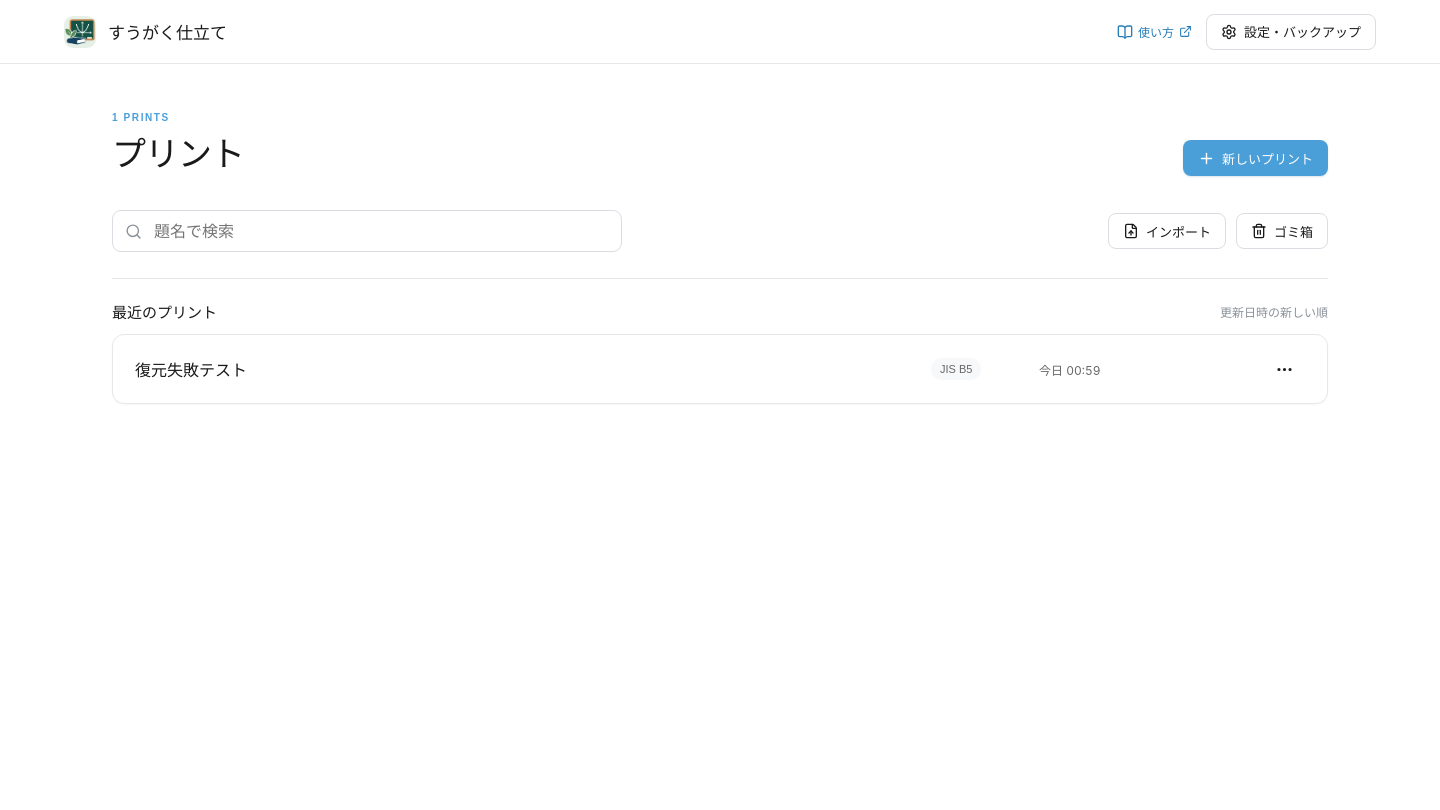
Scenario: WorksheetListScreen › ゴミ箱移動の取り消し失敗を捕捉して再実行できる
Click the button named "復元失敗テストのメニュー" at (1284, 369), box left=1267, top=352, right=1301, bottom=386
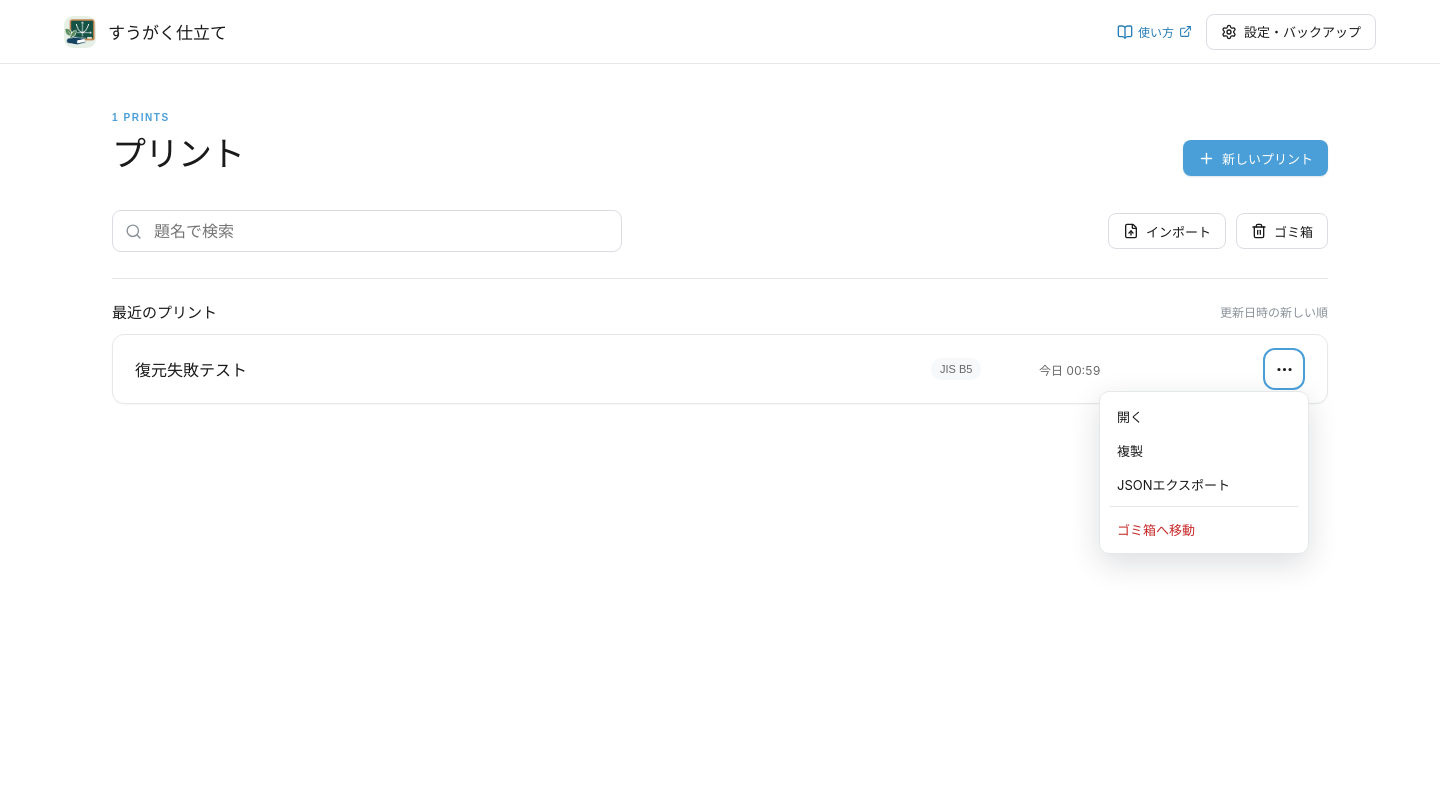
Click the button "ゴミ箱へ移動" at (1204, 529), box left=1107, top=512, right=1301, bottom=546
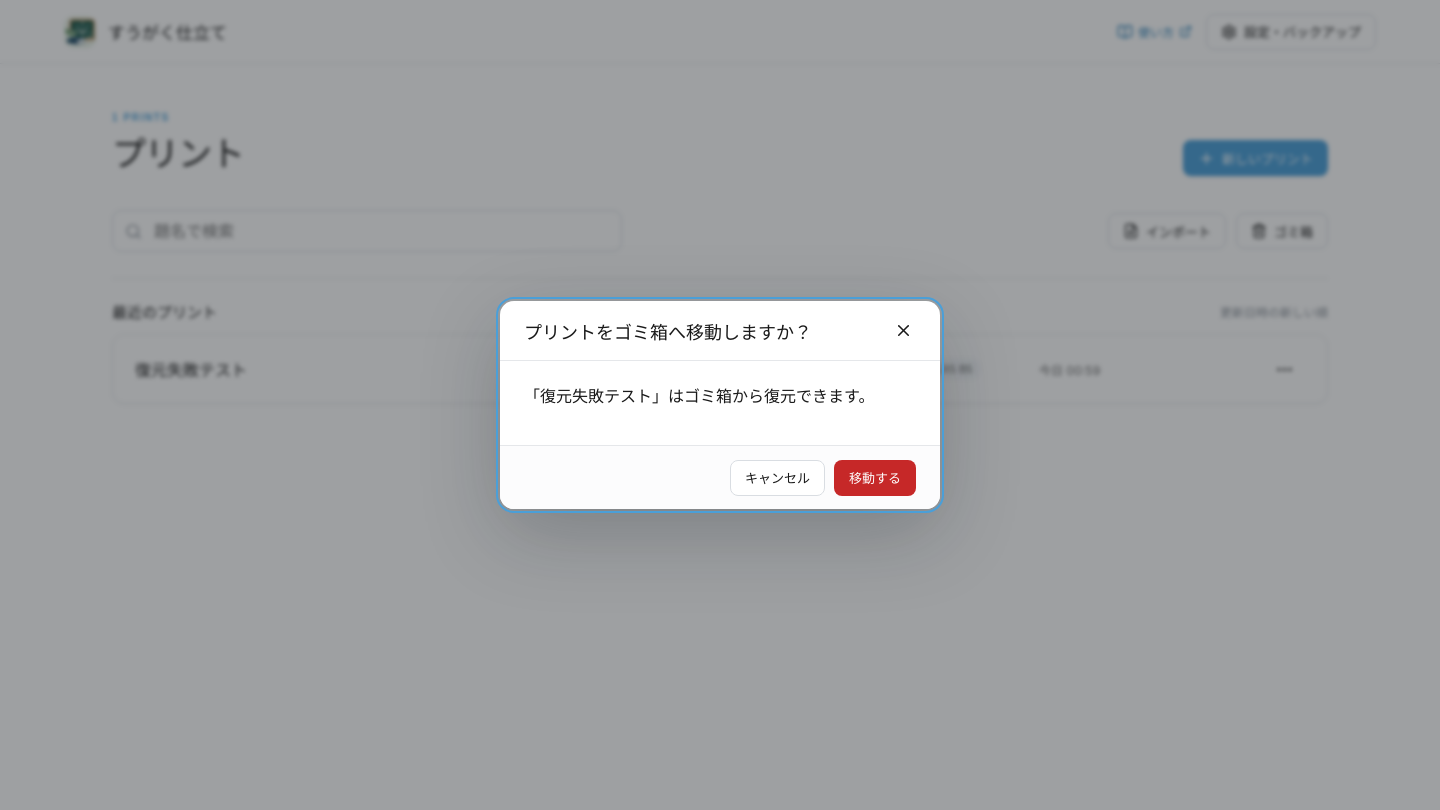
Click the button "移動する" at (875, 478), box left=834, top=460, right=916, bottom=496
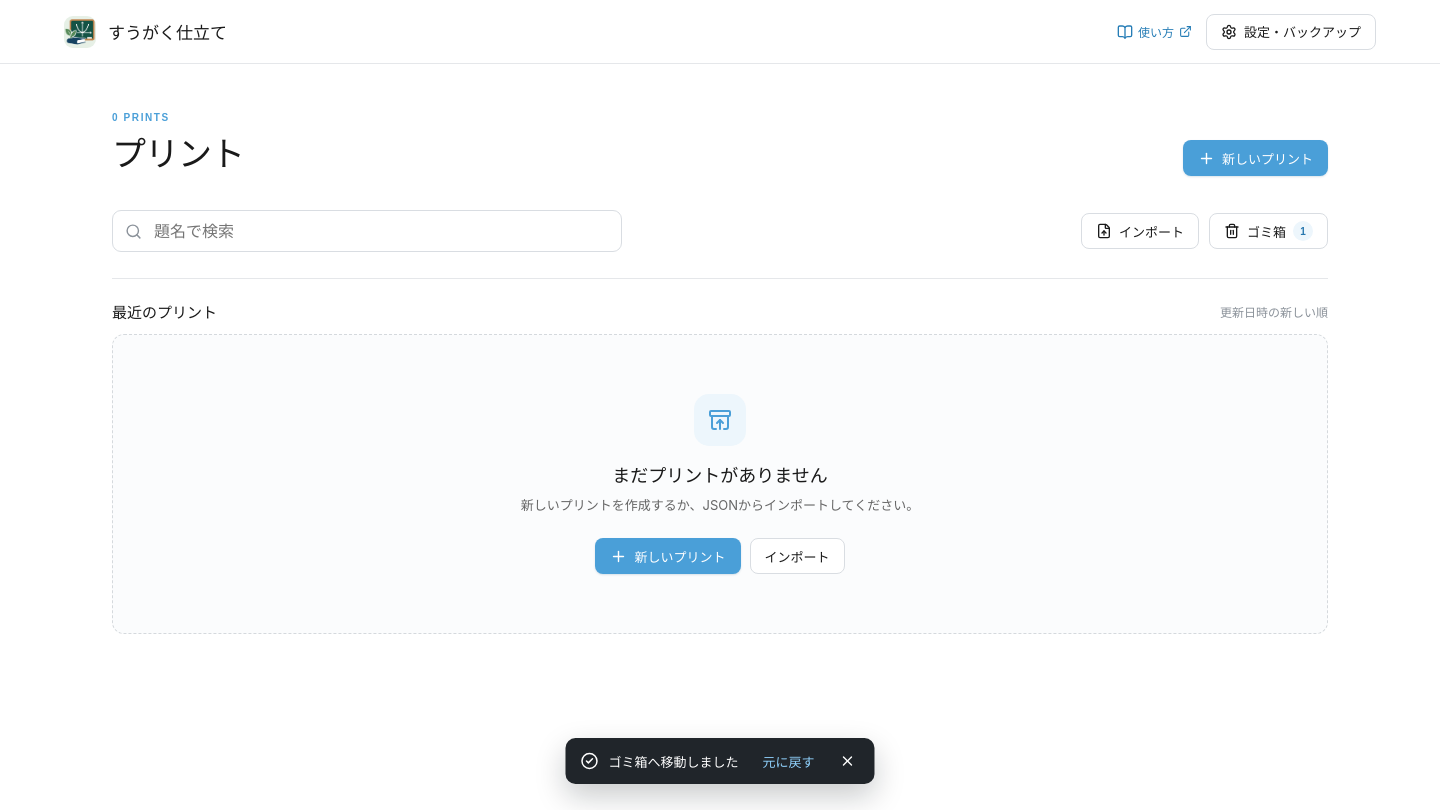
Click the button "元に戻す" at (788, 761), box left=756, top=750, right=820, bottom=772
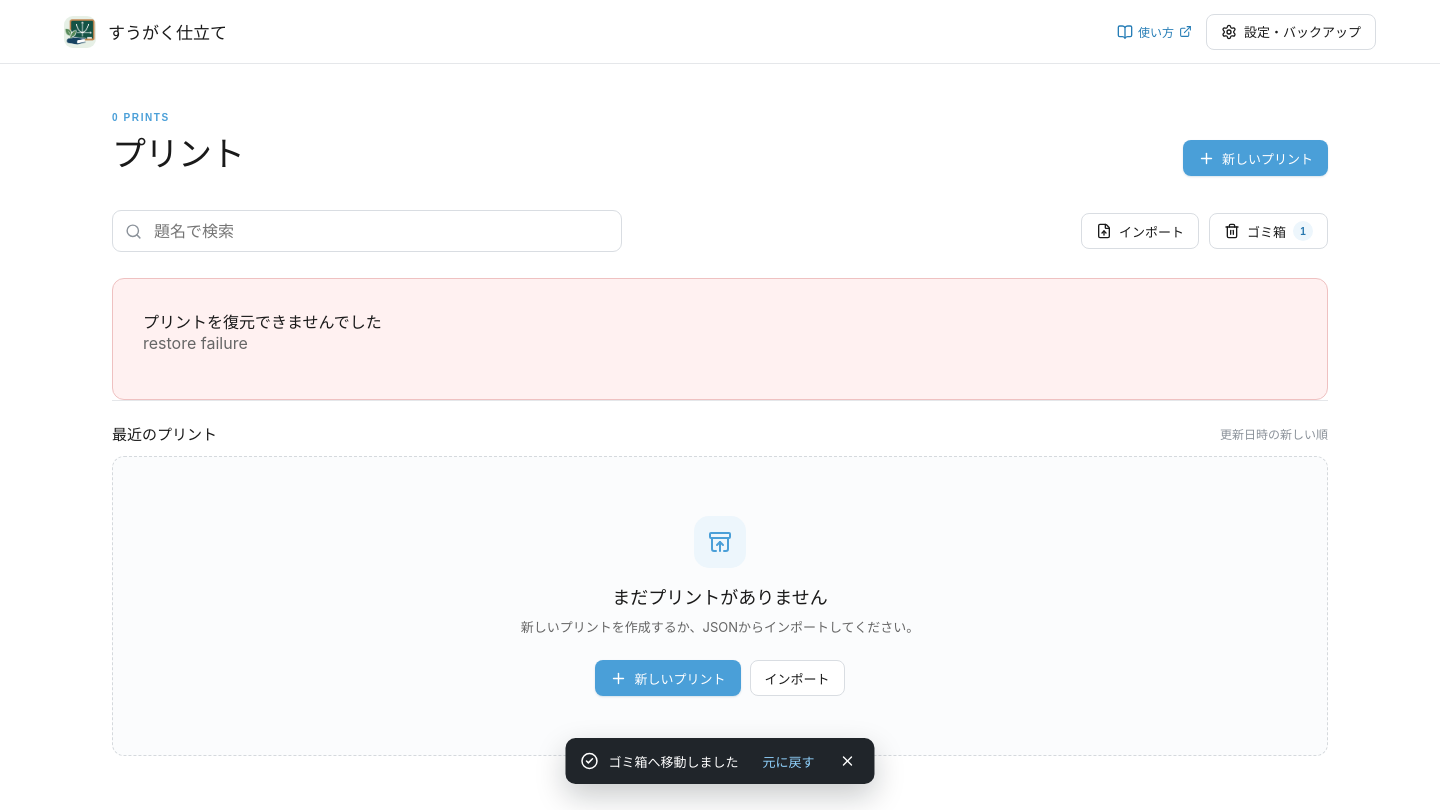
Expected: the button "元に戻す" is enabled, left=756, top=750, right=820, bottom=772
Expected: the message "プリントを復元できませんでした restore failure" is shown, left=112, top=278, right=1328, bottom=400
